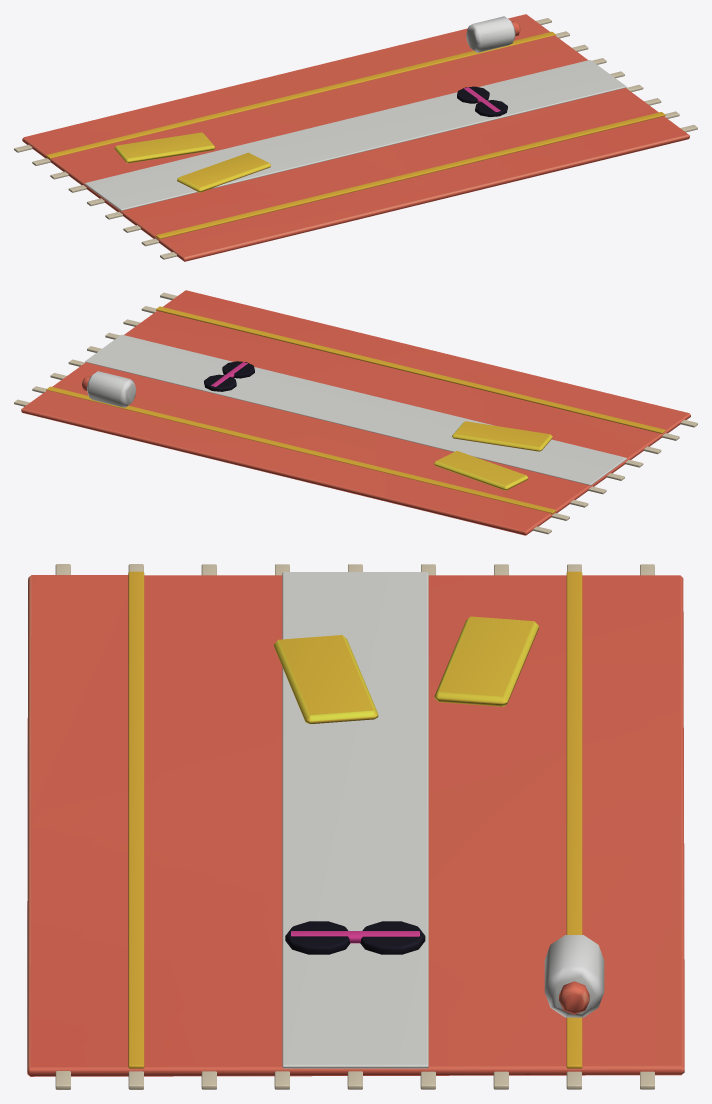
Rendered from SM_Prop_BeachTowel.fbx.
3 renders of one model, top to bottom at view 1: azimuth 30°, elevation 25°; view 2: azimuth 150°, elevation 25°; view 3: azimuth 270°, elevation 25°, orthographic. The views are drawn at different scales.
Visible parts, largest first — view 1: SM_Prop_BeachTowel; view 2: SM_Prop_BeachTowel; view 3: SM_Prop_BeachTowel.
Boxes of the visible parts, x1=… form: SM_Prop_BeachTowel: x1=14, y1=14, x2=697, y2=261; SM_Prop_BeachTowel: x1=14, y1=290, x2=697, y2=535; SM_Prop_BeachTowel: x1=27, y1=564, x2=684, y2=1089.
Bounding box in the file's own units: 169 × 9.98 × 90.07.
